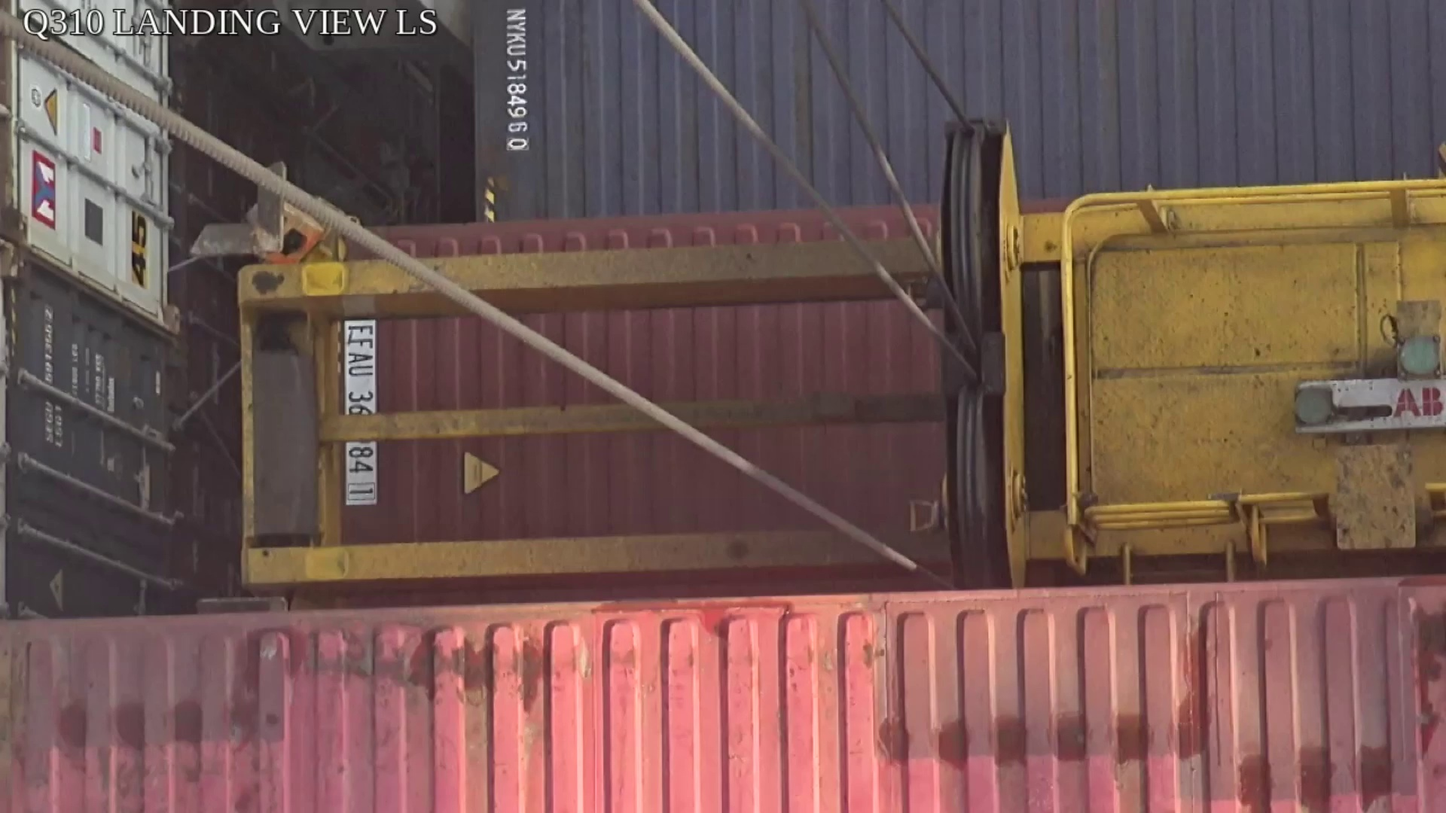aa: (938, 120, 1030, 588)
